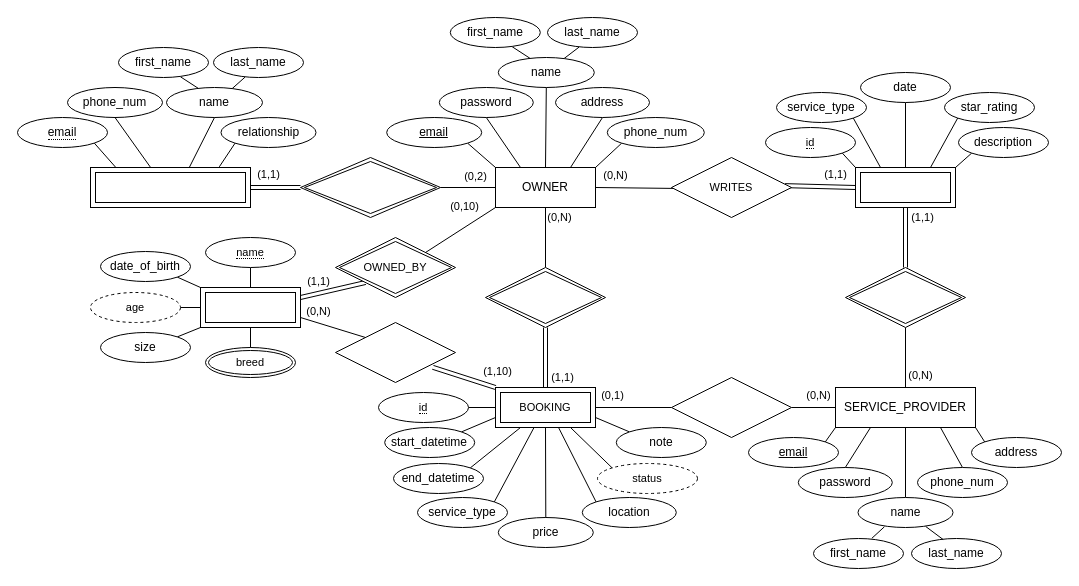
Image size: 1079x586. Some labels were removed from this diagram. Each missing label, with the centre of its shape:
ACCEPTED_BY: [731,407]
BOOKED_IN: [395,352]
BOOKS: [545,297]
CONTACT_FOR: [370,187]
DOG: [250,307]
EMERGENCY_CONTACT: [170,187]
REVIEW: [905,187]
REVIEW_FOR: [905,297]
